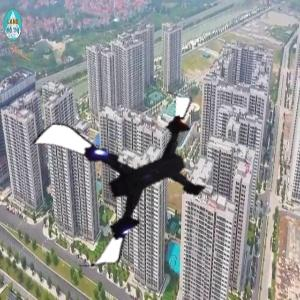drone: (43, 99, 215, 271)
